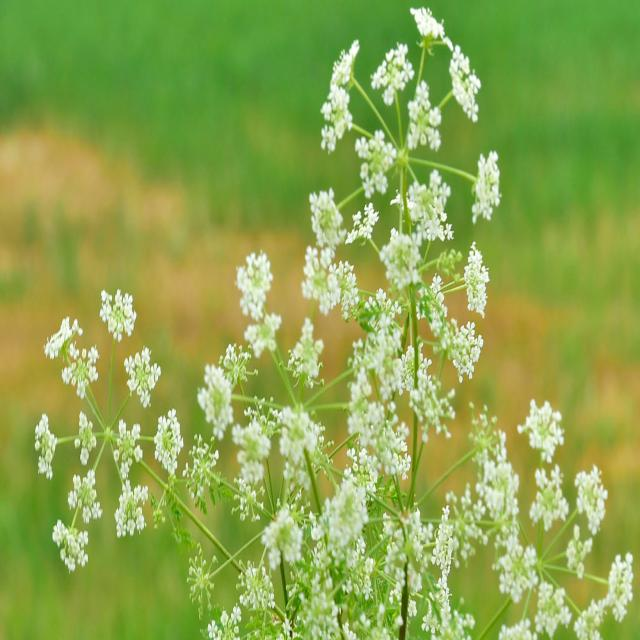Poisonous-Hemlock: (23, 293, 640, 640), (284, 4, 524, 288)
